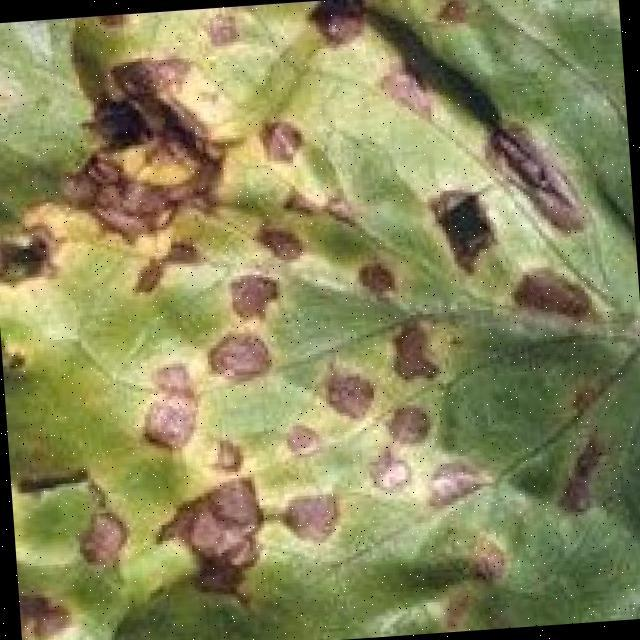Septoria_Blight_on_lettuce: (77, 0, 629, 639)
